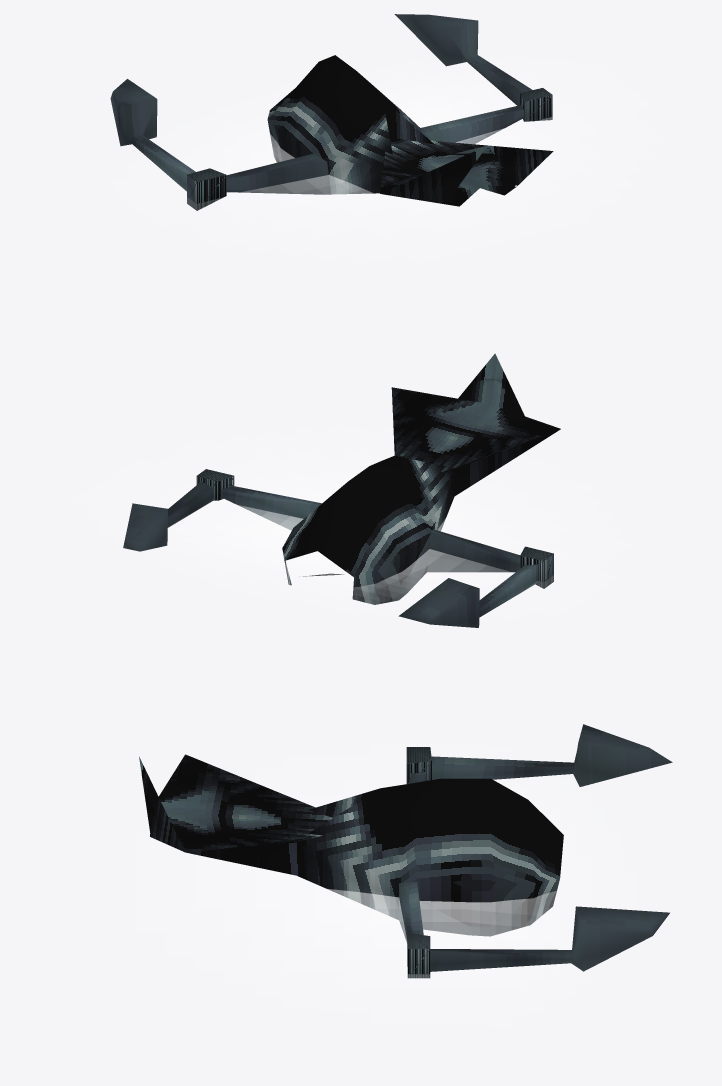
File: sbot_3db.gltf
The picture shows the model from 3 angles, top to bottom: view 1: azimuth 30°, elevation 25°; view 2: azimuth 150°, elevation 25°; view 3: azimuth 270°, elevation 25°; orthographic projection. The views are drawn at different scales.
Parts seen in each view (by area): view 1: sbot.3db; view 2: sbot.3db; view 3: sbot.3db.
Part boxes in pixels (left/top/right/bottom): sbot.3db: left=110, top=14, right=599, bottom=236; sbot.3db: left=123, top=353, right=566, bottom=627; sbot.3db: left=139, top=724, right=672, bottom=990.
Bounding box in the file's own units: 7.49 × 1.37 × 5.65.
Materials: 2 (2 with a texture image).
